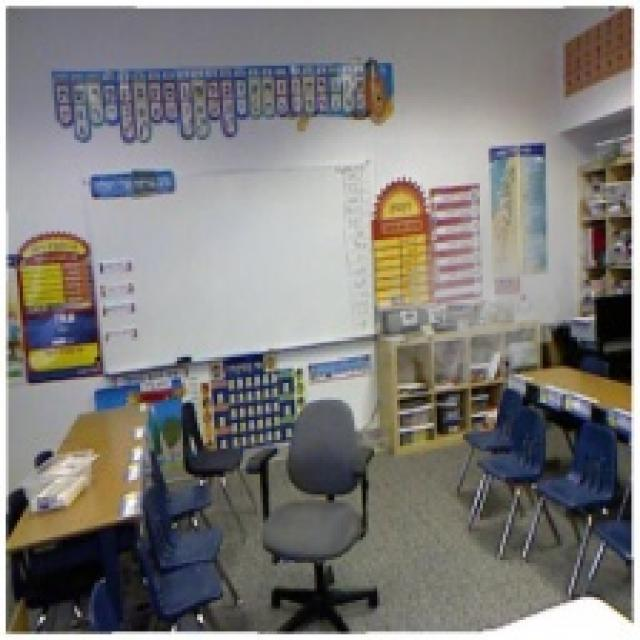Smoke: (374, 143, 606, 400)
